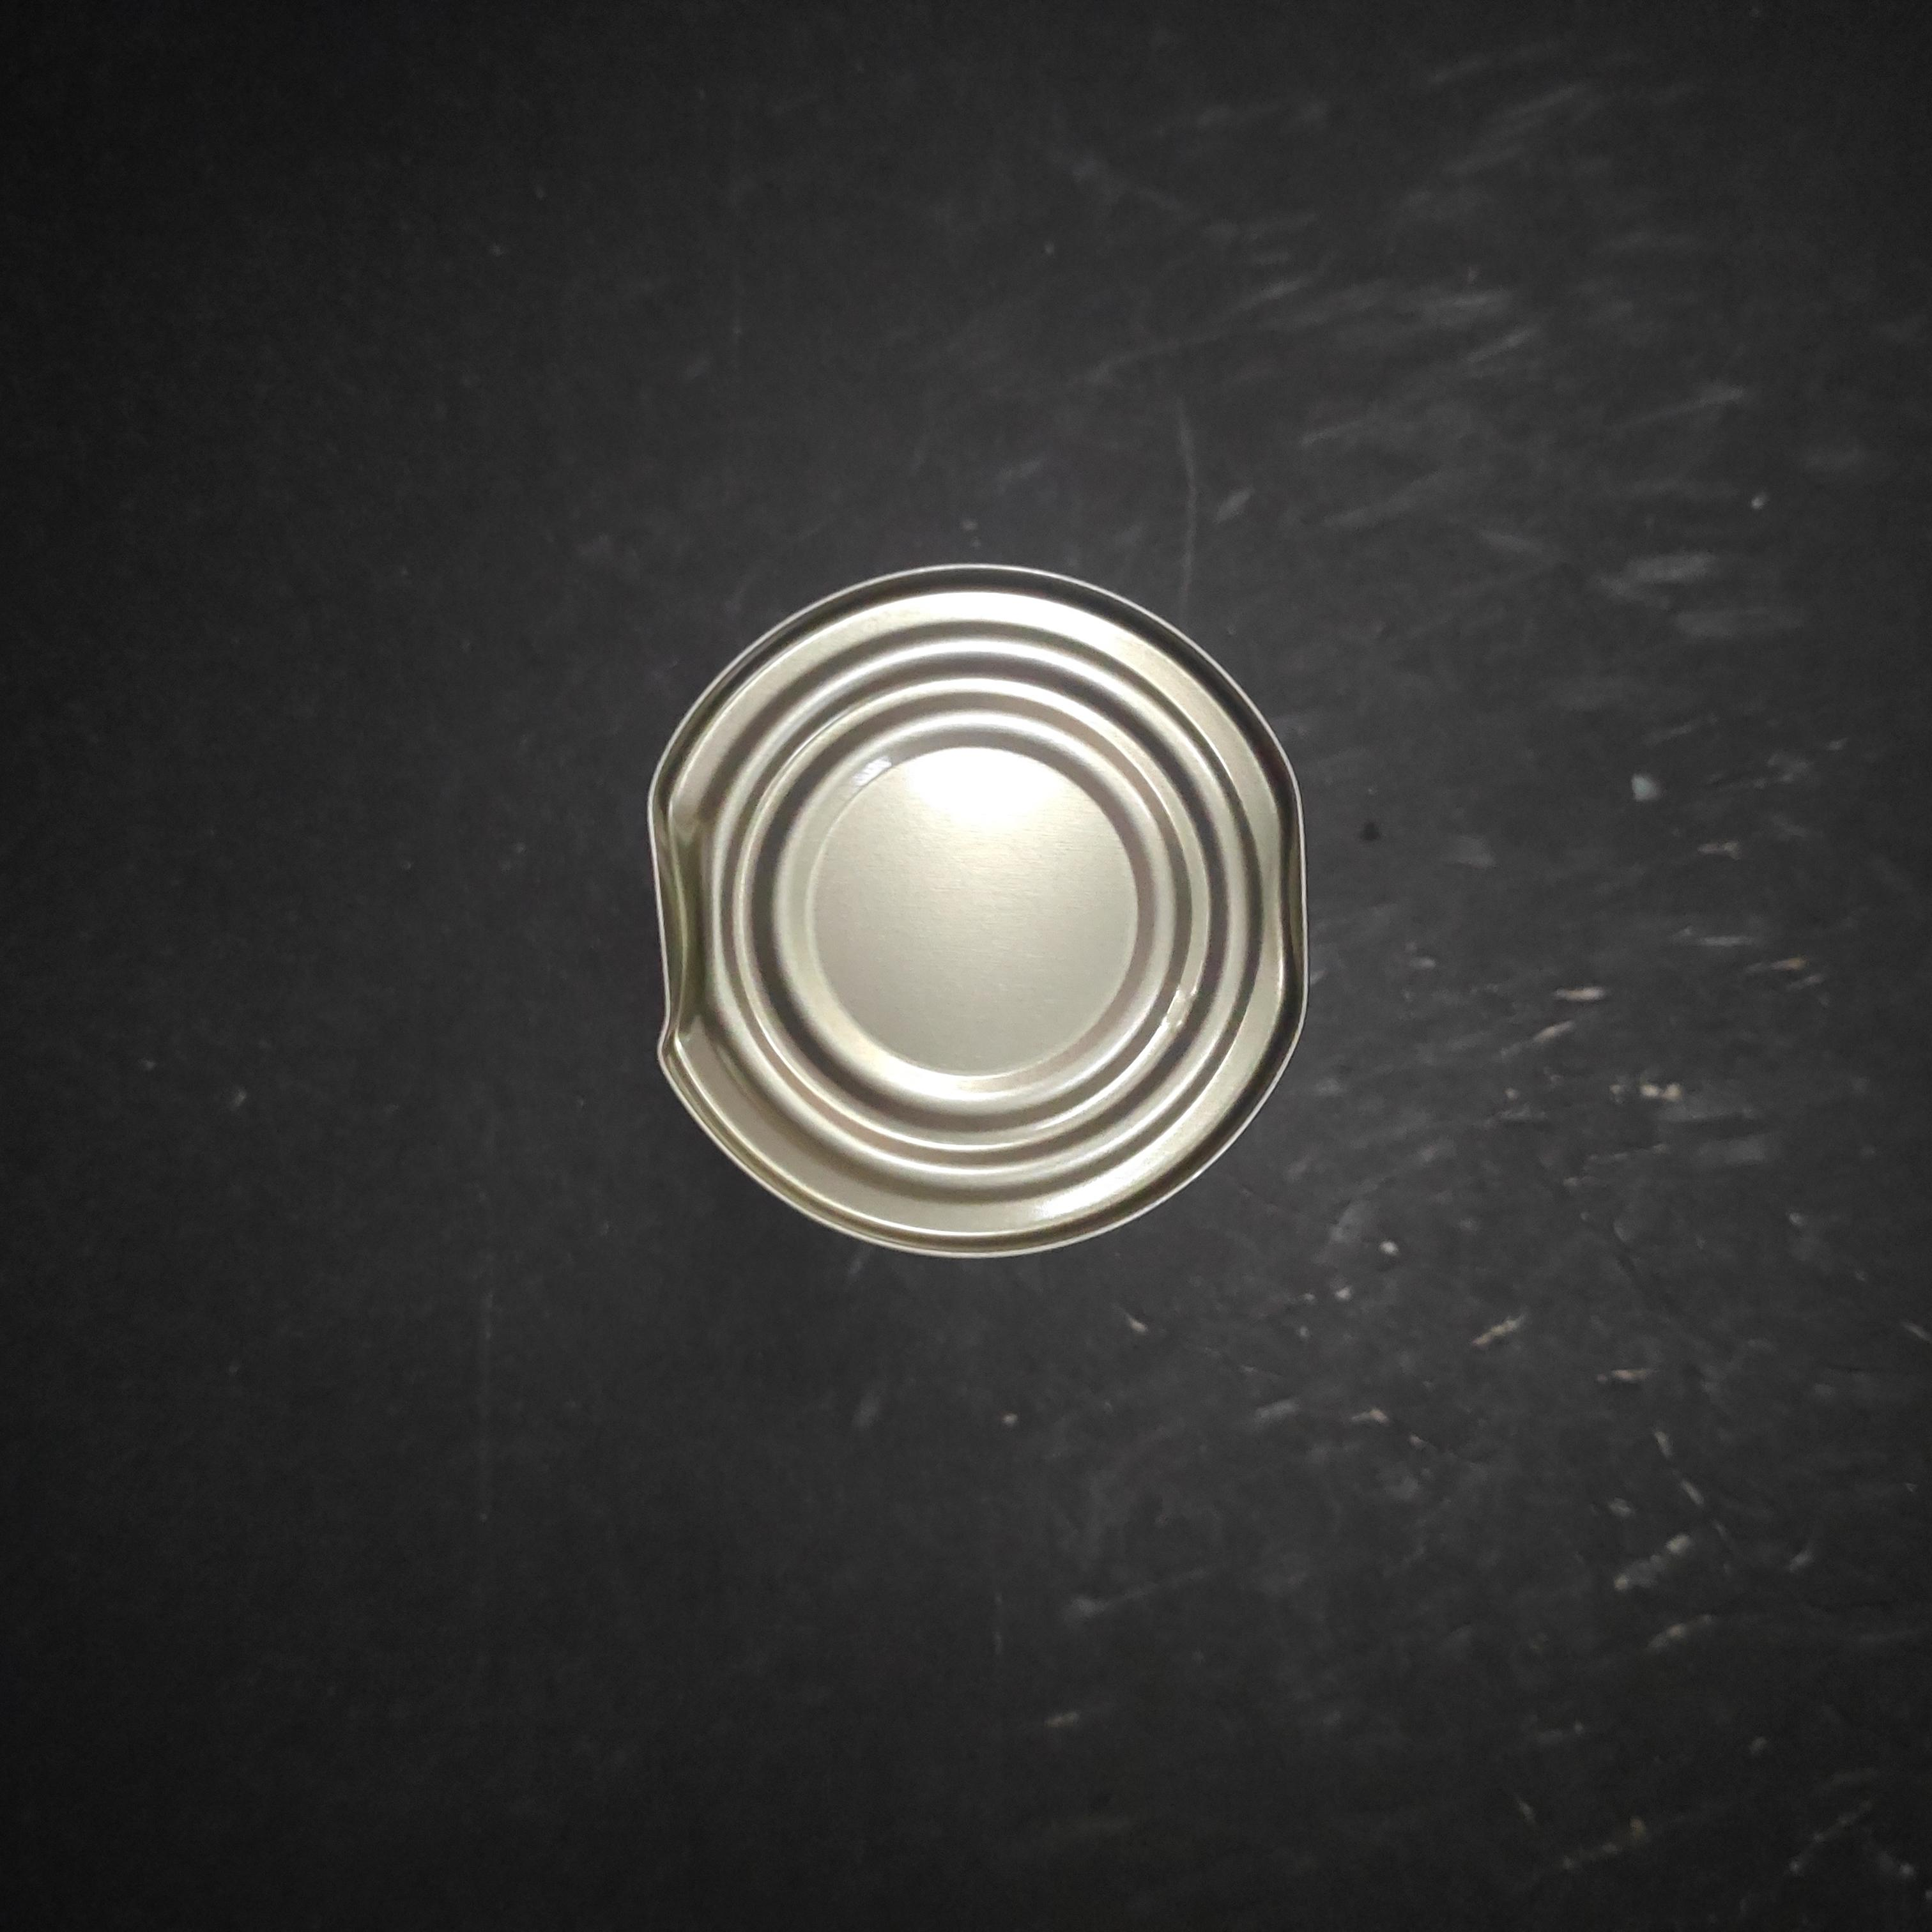Minor Defect: (609, 649, 1299, 1385)
